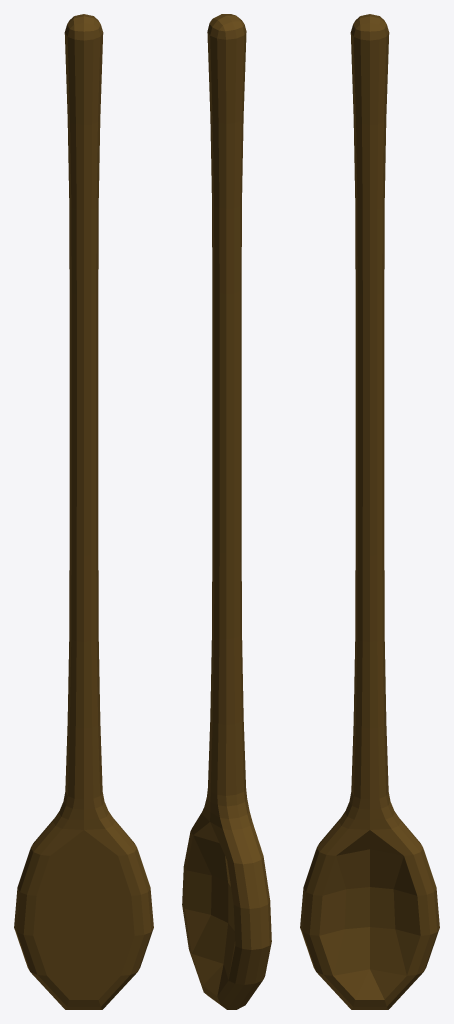
Rendered from stirring_spoon.glb.
3 views of the same model, side by side, from view 1: azimuth 90°, elevation 25°; view 2: azimuth 210°, elevation 25°; view 3: azimuth 270°, elevation 25° (orthographic).
Parts seen in each view (by area): view 1: Plane; view 2: Plane; view 3: Plane.
Boxes of the visible parts, x1,y1,x2,y2 form: Plane: (14,14,153,1009); Plane: (182,14,271,1009); Plane: (300,14,439,1009).
Bounding box in the file's own units: 0.0748 × 2.09 × 0.267.
